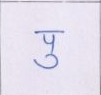ai_matra: (43, 33, 58, 52)
